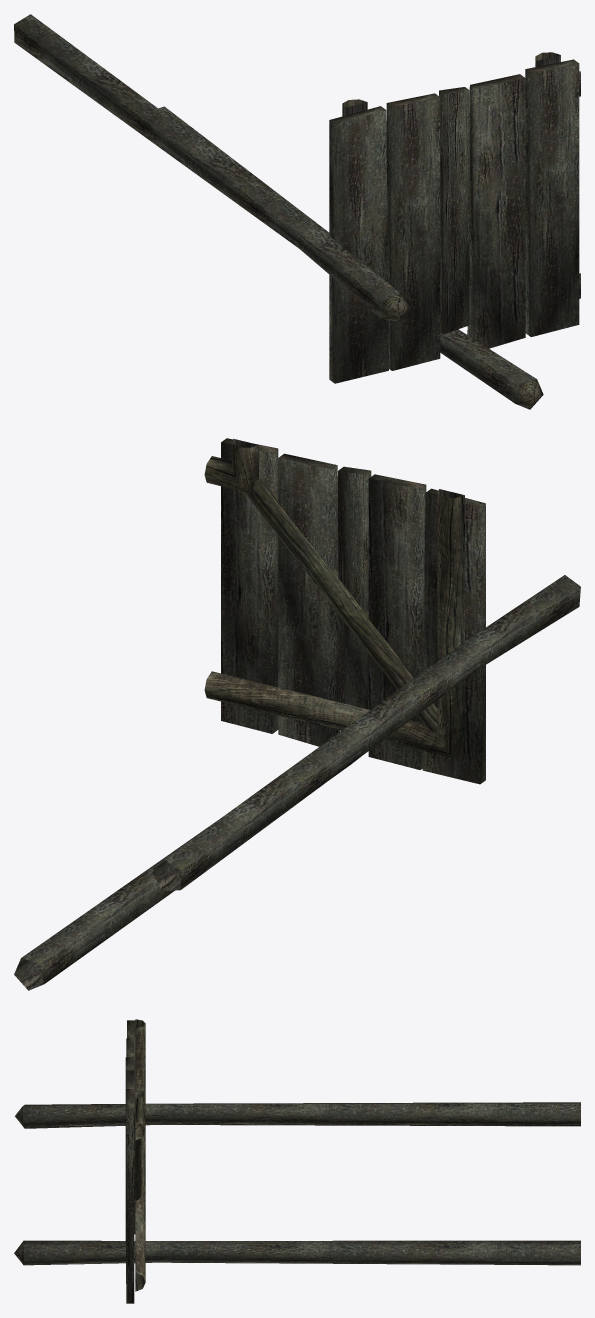
Rendered from ex_common_plat_corn.obj.
3 views of the same model, one above another, from view 1: azimuth 30°, elevation 25°; view 2: azimuth 150°, elevation 25°; view 3: azimuth 270°, elevation 25° (orthographic). The views are drawn at different scales.
Visible parts, largest first — view 1: Tri Ex_common_plat_corn 3, Tri Ex_common_plat_corn 4, Tri Ex_common_plat_corn 2; view 2: Tri Ex_common_plat_corn 3, Tri Ex_common_plat_corn 1, Tri Ex_common_plat_corn 4; view 3: Tri Ex_common_plat_corn 3, Tri Ex_common_plat_corn 1, Tri Ex_common_plat_corn 4.
Boxes of the visible parts, x1,y1,x2,y2 form: Tri Ex_common_plat_corn 3: (14,14,579,403); Tri Ex_common_plat_corn 4: (330,59,578,123); Tri Ex_common_plat_corn 2: (382,293,543,409); Tri Ex_common_plat_corn 3: (14,442,580,990); Tri Ex_common_plat_corn 1: (204,439,464,759); Tri Ex_common_plat_corn 4: (221,438,485,507); Tri Ex_common_plat_corn 3: (22,1038,580,1303); Tri Ex_common_plat_corn 1: (134,1019,145,1291); Tri Ex_common_plat_corn 4: (125,1020,135,1108).
Size of the model in its own units: 271 by 261 by 653.
Materials: 5 (5 with a texture image).
